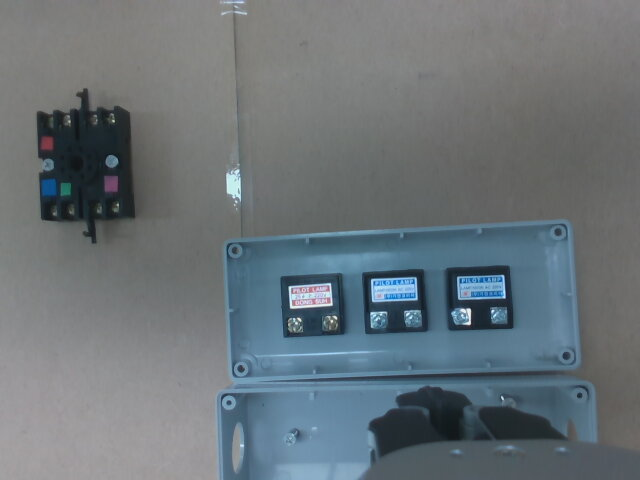L1(1): (287, 317, 303, 333)
L1(2): (321, 315, 338, 332)
L2(1): (370, 311, 387, 329)
L2(2): (404, 310, 422, 328)
L3(1): (454, 307, 471, 325)
L3(2): (490, 306, 508, 326)
